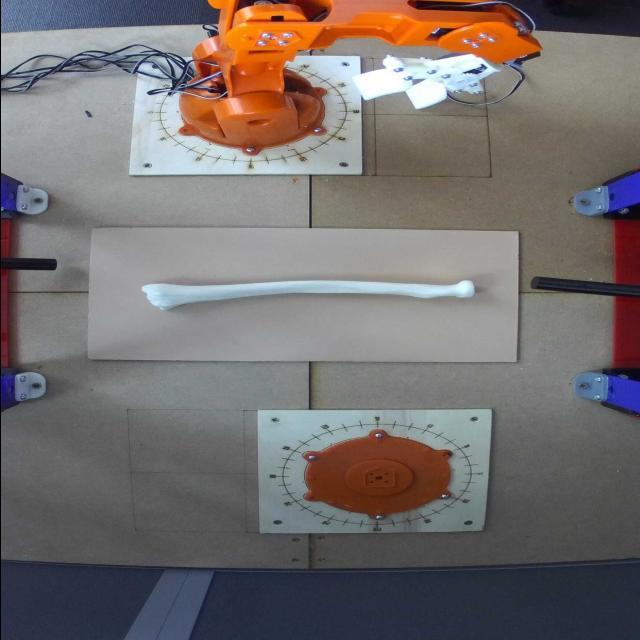bone: (139, 272, 477, 310)
